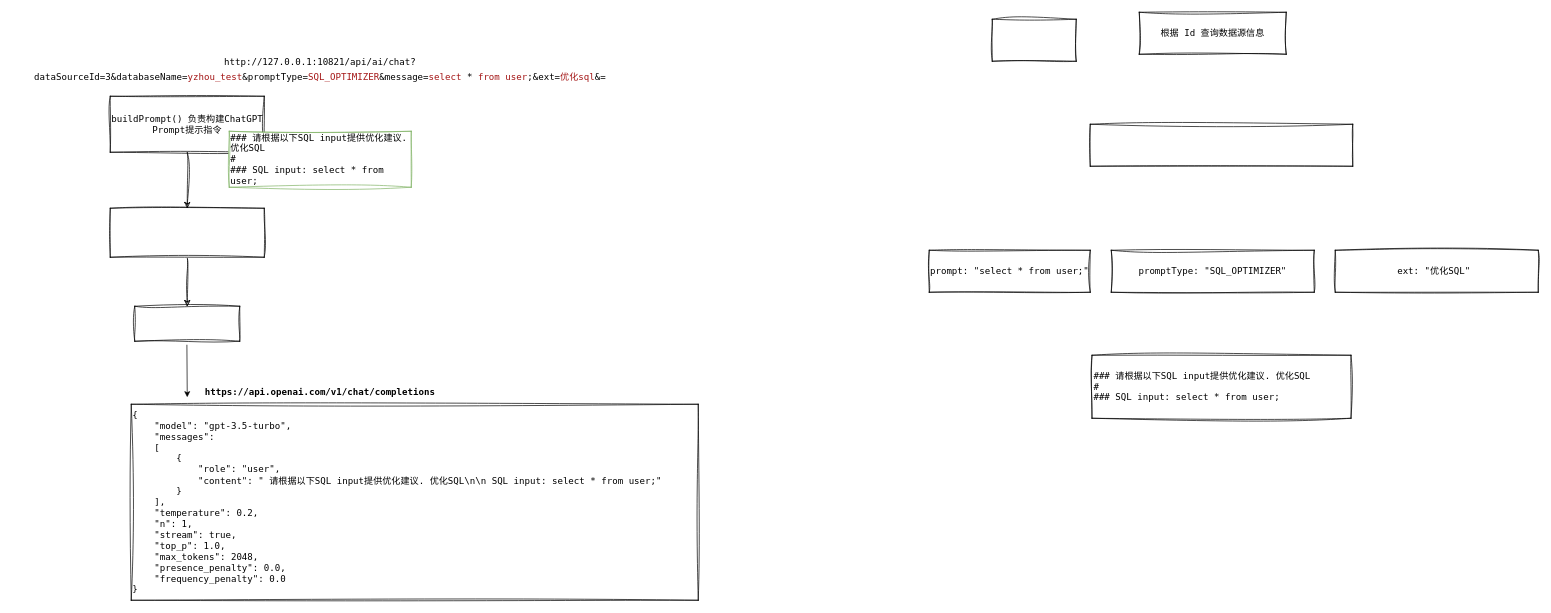
This 1551x613 diagram has some shape labels left out. The shapes that lost their labels are listed below. From the top down, each one's centre as x and y in pixels, then its label:
At point (1034, 40): "buildPrompt()".
At point (1221, 145): "根据表名查询字段，构建Map<tableName,List<tableColumn>".
At point (187, 232): "判断Prompt提示按照Token平均长度计算后判断是否超出规定的长度".
At point (187, 323): "根据不同ChatGPT版本，处理参数".
